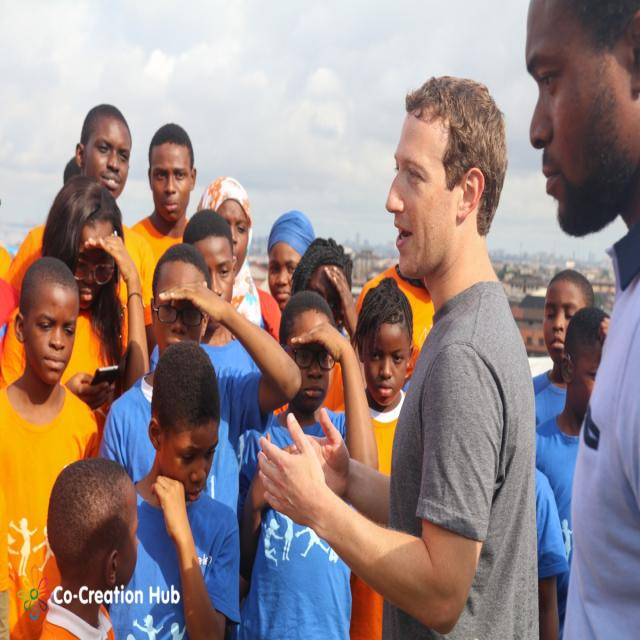body: (254, 74, 541, 639), (520, 0, 640, 639), (97, 242, 304, 523), (236, 285, 381, 640), (99, 338, 245, 640), (1, 257, 99, 631), (0, 171, 151, 404), (4, 102, 137, 316), (533, 301, 613, 640), (348, 273, 417, 639), (348, 275, 414, 640), (37, 454, 139, 640), (153, 207, 259, 376), (271, 237, 367, 418), (196, 175, 282, 345), (129, 123, 198, 326), (529, 268, 596, 428), (265, 208, 318, 315), (51, 142, 84, 197)
